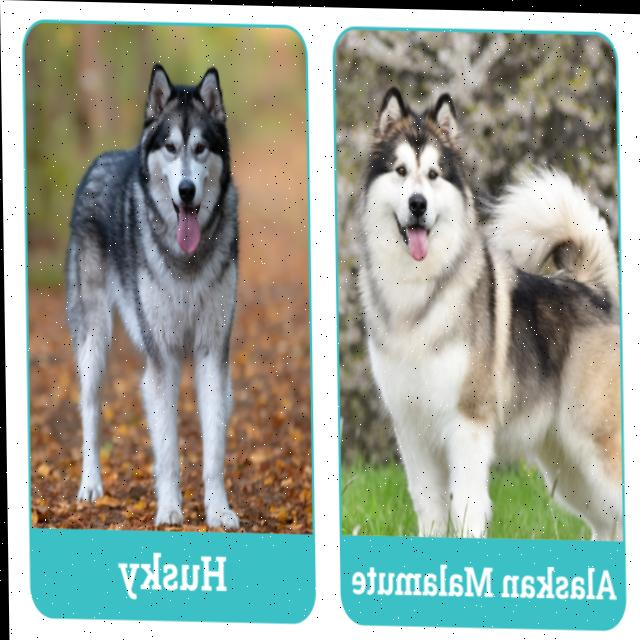ALASKAN_MALAMUTE: (344, 66, 625, 551)
